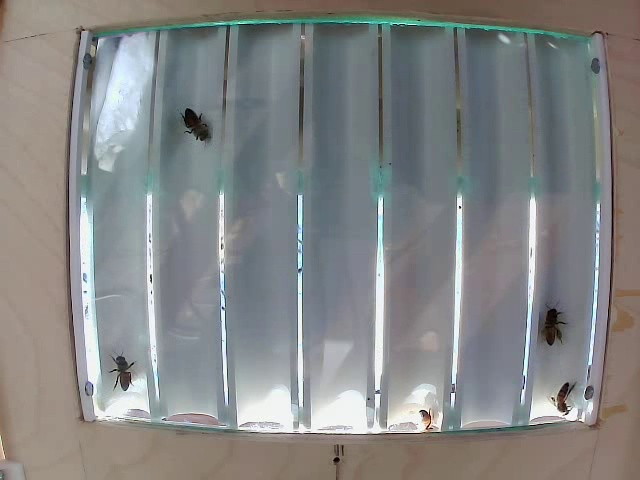bee: (543, 303, 574, 344), (552, 382, 579, 420), (176, 116, 207, 145), (106, 361, 141, 382)
